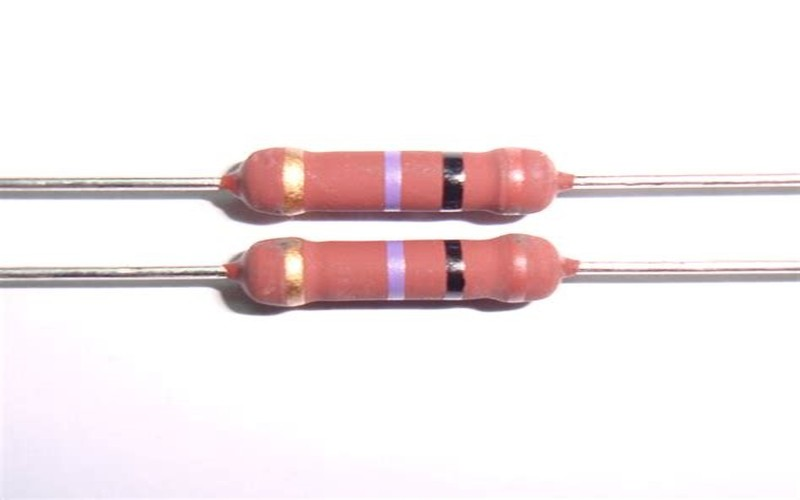Resistor: (198, 96, 596, 330)
